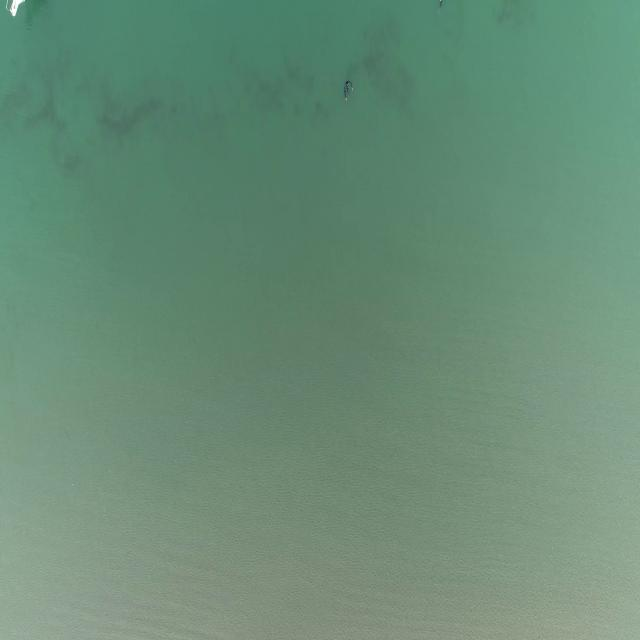person: (342, 79, 356, 102)
